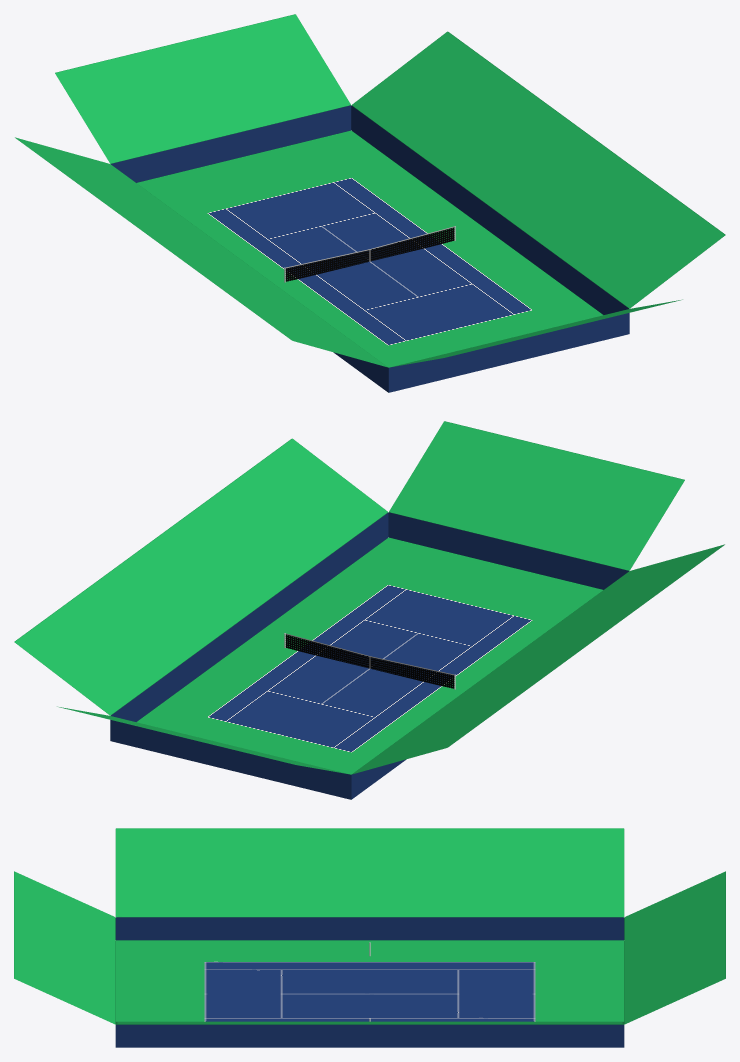
Rendered from court.dae.
3 views of the same model, one above another, from view 1: azimuth 30°, elevation 25°; view 2: azimuth 150°, elevation 25°; view 3: azimuth 270°, elevation 25° (orthographic). The views are drawn at different scales.
Parts seen in each view (by area): view 1: Court; view 2: Court; view 3: Court.
Part boxes in pixels (x1,y1,x2,y2): Court: (15, 14, 725, 392); Court: (14, 421, 724, 799); Court: (14, 828, 725, 1047).
Bounding box in the file's own units: 32.92 × 5.49 × 51.21.
1 material, 1 textured.
